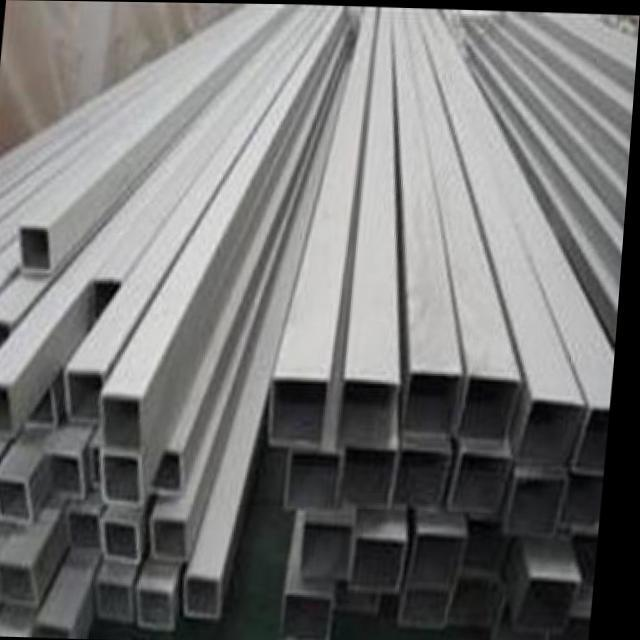pipe: (525, 394, 592, 461), (462, 373, 525, 439), (344, 378, 405, 444), (276, 375, 332, 444), (514, 472, 575, 535), (458, 450, 519, 510), (404, 444, 457, 509), (349, 447, 406, 506), (524, 576, 588, 628), (416, 530, 476, 585), (411, 369, 463, 432), (295, 448, 350, 505), (358, 536, 412, 591), (311, 521, 359, 579), (472, 515, 518, 575), (287, 591, 343, 640), (580, 407, 615, 471), (567, 480, 610, 530), (461, 585, 512, 625), (109, 394, 148, 446), (407, 588, 459, 627), (109, 452, 147, 500), (72, 369, 106, 419), (8, 562, 46, 606), (54, 450, 91, 495), (102, 583, 142, 622), (193, 575, 228, 619), (1, 477, 37, 518), (112, 519, 148, 560), (149, 587, 181, 632), (23, 226, 54, 272), (159, 519, 195, 554), (75, 509, 106, 545), (99, 278, 124, 322), (0, 385, 17, 432), (0, 321, 11, 352)
